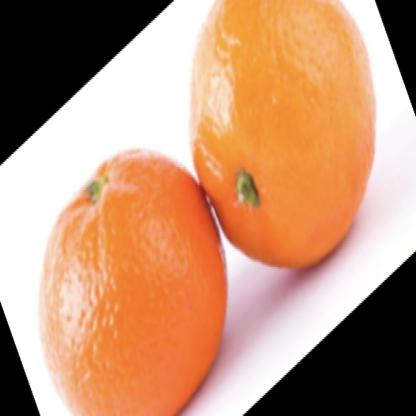fresh: (40, 1, 379, 416)
